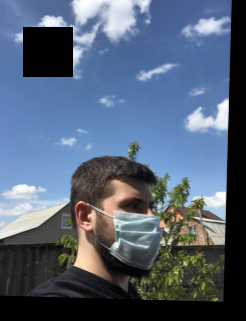with_mask: (107, 189, 161, 273)
